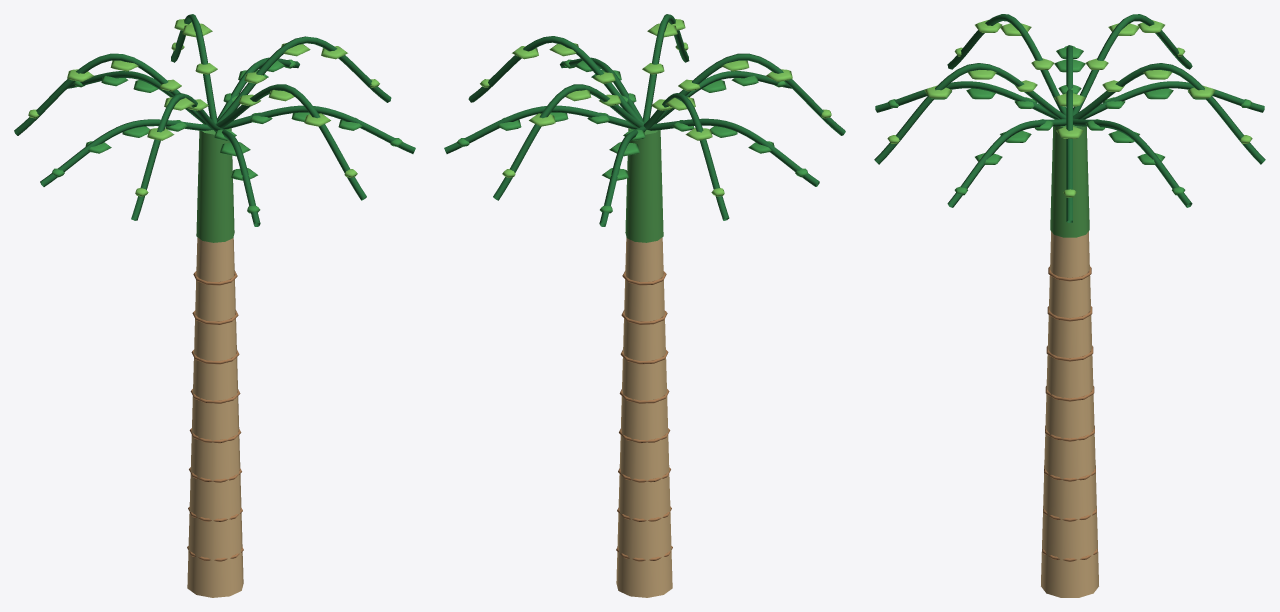
File: palm-royal.glb
The picture shows the model from 3 angles, left to right: view 1: azimuth 30°, elevation 25°; view 2: azimuth 150°, elevation 25°; view 3: azimuth 270°, elevation 25°; orthographic projection.
Visible parts, largest first — view 1: Mesh_sandStone, Mesh_leafDark, Mesh_crownShaft, Mesh_leafLight, Mesh_leaf, Mesh_palmBark; view 2: Mesh_sandStone, Mesh_leafDark, Mesh_crownShaft, Mesh_leafLight, Mesh_leaf, Mesh_palmBark; view 3: Mesh_sandStone, Mesh_leafDark, Mesh_leafLight, Mesh_crownShaft, Mesh_leaf, Mesh_palmBark.
Boxes of the visible parts, bbox=[...] form: Mesh_sandStone: bbox=[187, 237, 243, 597]; Mesh_leafDark: bbox=[14, 14, 415, 226]; Mesh_crownShaft: bbox=[196, 124, 234, 242]; Mesh_leafLight: bbox=[28, 19, 379, 196]; Mesh_leaf: bbox=[52, 59, 402, 213]; Mesh_palmBark: bbox=[187, 270, 243, 561]; Mesh_sandStone: bbox=[616, 237, 672, 597]; Mesh_leafDark: bbox=[444, 14, 845, 226]; Mesh_crownShaft: bbox=[625, 128, 663, 242]; Mesh_leafLight: bbox=[480, 19, 831, 196]; Mesh_leaf: bbox=[457, 59, 807, 213]; Mesh_palmBark: bbox=[616, 271, 672, 561]; Mesh_sandStone: bbox=[1041, 231, 1098, 597]; Mesh_leafDark: bbox=[874, 14, 1265, 222]; Mesh_leafLight: bbox=[887, 20, 1252, 197]; Mesh_crownShaft: bbox=[1050, 125, 1089, 237]; Mesh_leaf: bbox=[887, 45, 1252, 195]; Mesh_palmBark: bbox=[1042, 266, 1097, 561].
Size of the model in its own units: 3.94 by 5.67 by 3.76.
